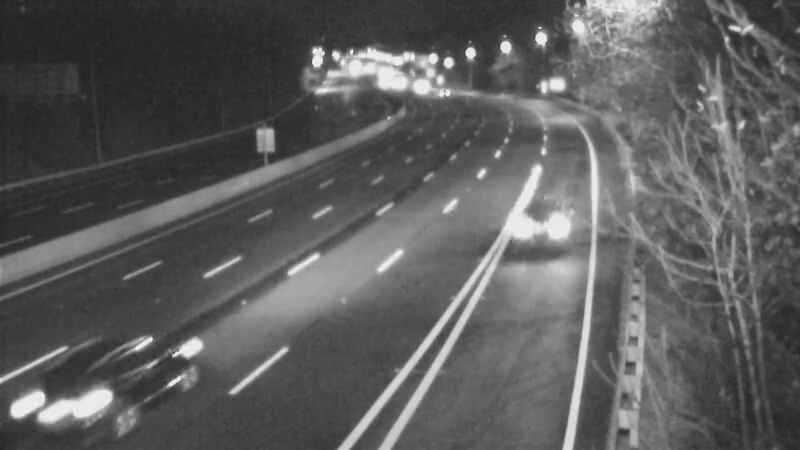vehicle: (14, 335, 124, 445), (499, 183, 579, 263), (392, 62, 442, 112), (421, 67, 471, 117)
